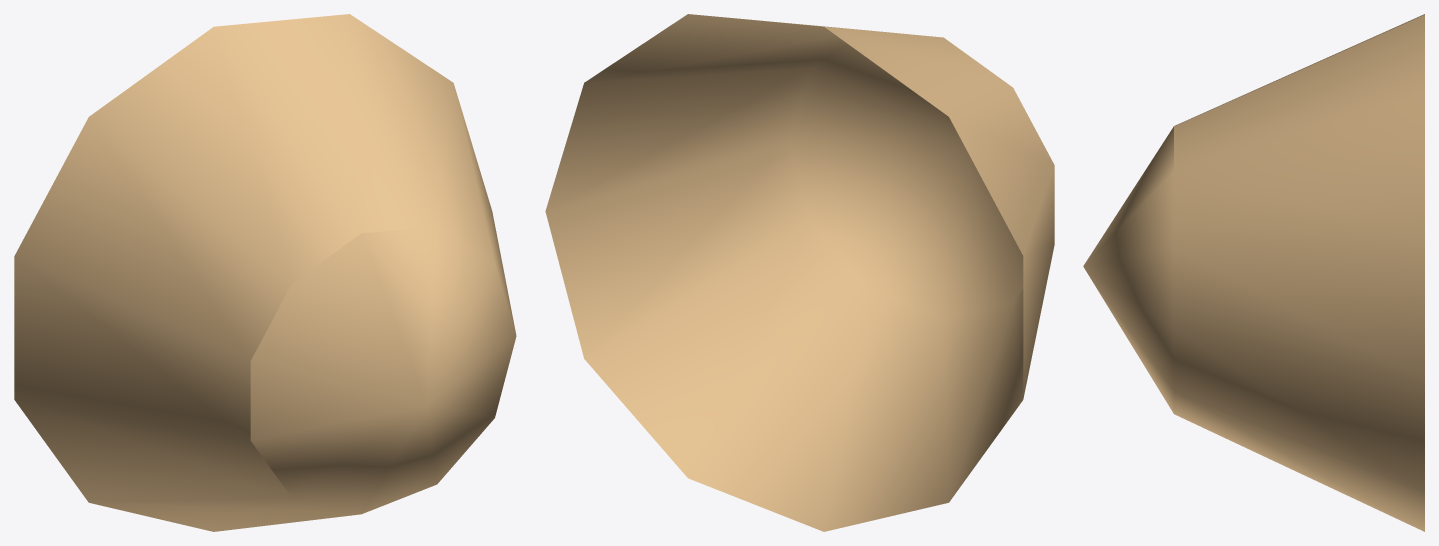
Rendered from foxtail7.obj.
The picture shows the model from 3 angles, left to right: view 1: azimuth 30°, elevation 25°; view 2: azimuth 150°, elevation 25°; view 3: azimuth 270°, elevation 25°; orthographic projection. The views are drawn at different scales.
Visible parts, largest first — view 1: tail7; view 2: tail7; view 3: tail7.
Boxes of the visible parts, x1=… form: tail7: x1=14, y1=14, x2=516, y2=531; tail7: x1=545, y1=14, x2=1054, y2=531; tail7: x1=1083, y1=14, x2=1424, y2=531.
Size of the model in its own units: 0.1208 by 0.122 by 0.0798.
Materials: 1 (1 with a texture image).
